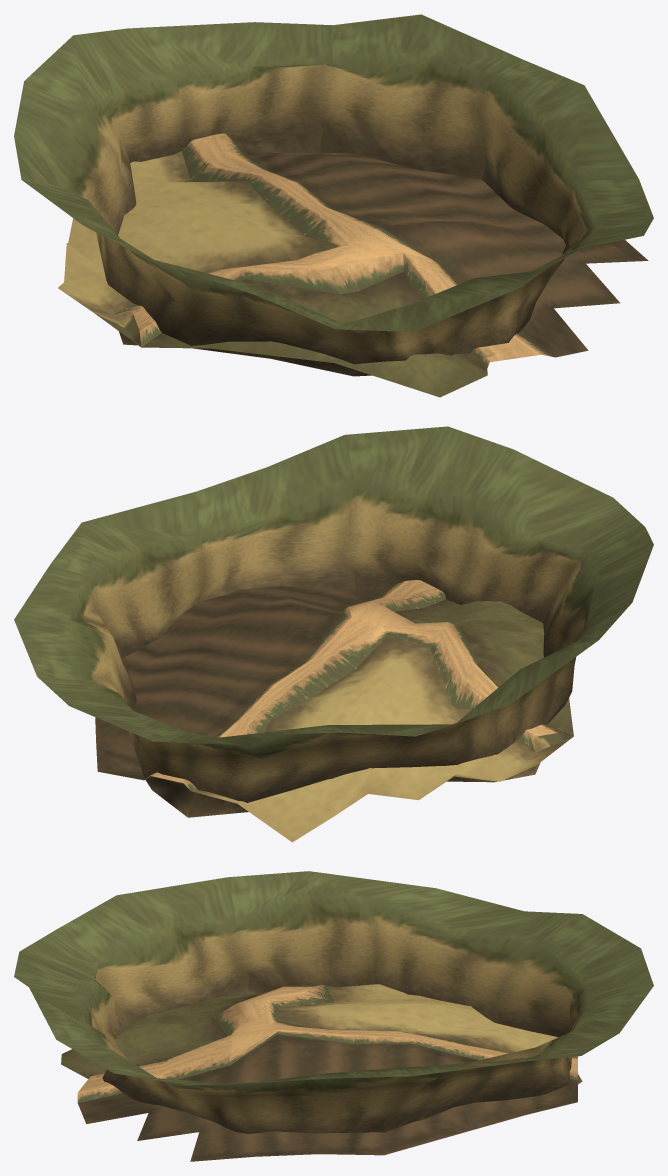
Rendered from field.fbx.
3 views of the same model, one above another, from view 1: azimuth 30°, elevation 25°; view 2: azimuth 150°, elevation 25°; view 3: azimuth 270°, elevation 25° (orthographic). The views are drawn at different scales.
Parts seen in each view (by area): view 1: pCylinder5, pPlane1; view 2: pCylinder5, pPlane1; view 3: pCylinder5, pPlane1.
Part boxes in pixels (x1,y1,x2,y2): pCylinder5: (14,14,653,376); pPlane1: (58,133,648,397); pCylinder5: (14,426,653,817); pPlane1: (95,580,573,842); pCylinder5: (14,871,653,1133); pPlane1: (61,984,577,1161).
Bounding box in the file's own units: 4800 × 1419 × 6149.
